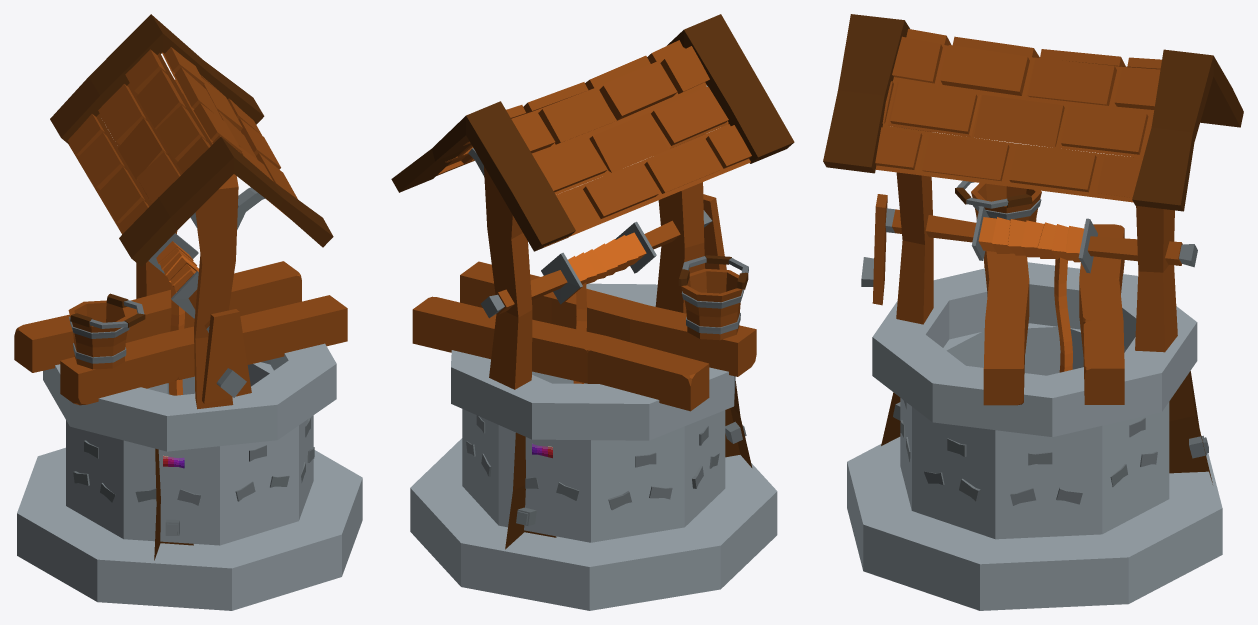
Rendered from Pozo Lowpoly.fbx.
3 views of the same model, side by side, from view 1: azimuth 30°, elevation 25°; view 2: azimuth 150°, elevation 25°; view 3: azimuth 270°, elevation 25° (orthographic). The views are drawn at different scales.
Parts seen in each view (by area): view 1: Cube; view 2: Cube; view 3: Cube.
Part boxes in pixels (x1,y1,x2,y2): Cube: [14, 14, 362, 610]; Cube: [391, 14, 794, 610]; Cube: [823, 14, 1243, 610].
Bounding box in the file's own units: 414 × 608 × 465.
1 material, 1 textured.
